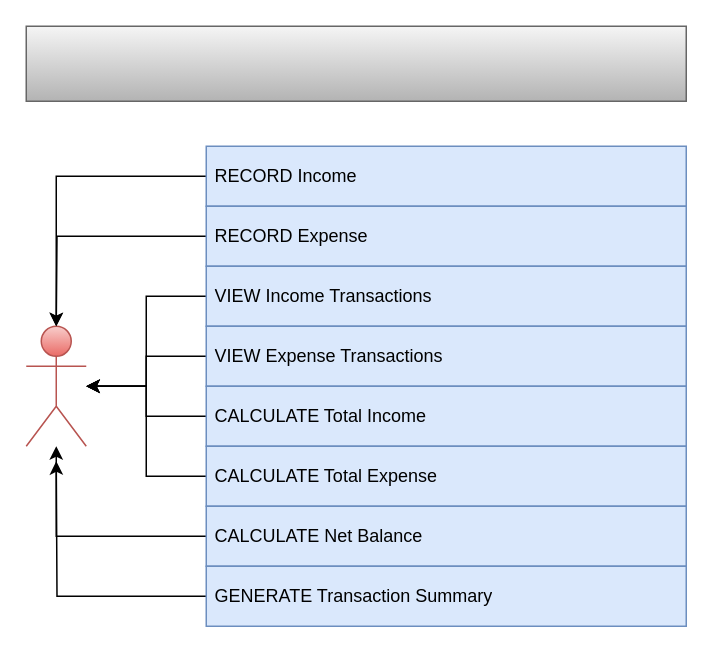
This 713x653 diagram has some shape labels left out. Here are the shapes that lost their labels. From the top down, the centre of each, then its label:
At [355,63]: "Digital Petty Cash System".
At [55,385]: "Cashier".
